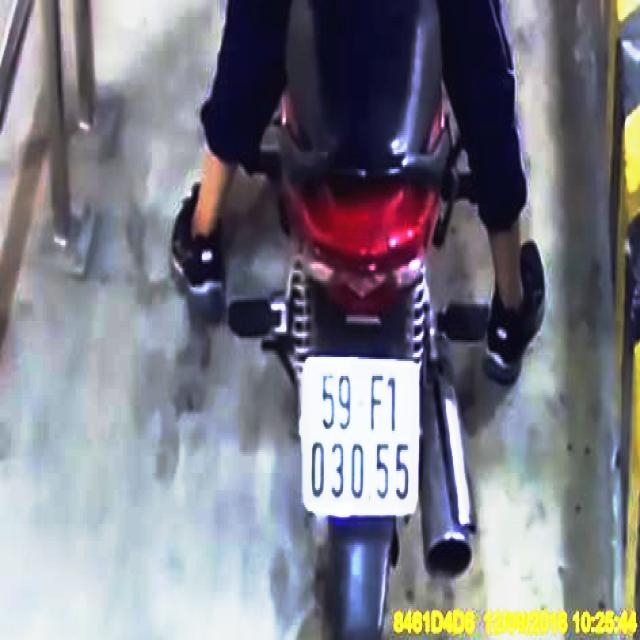license_plate: (304, 360, 422, 512)
